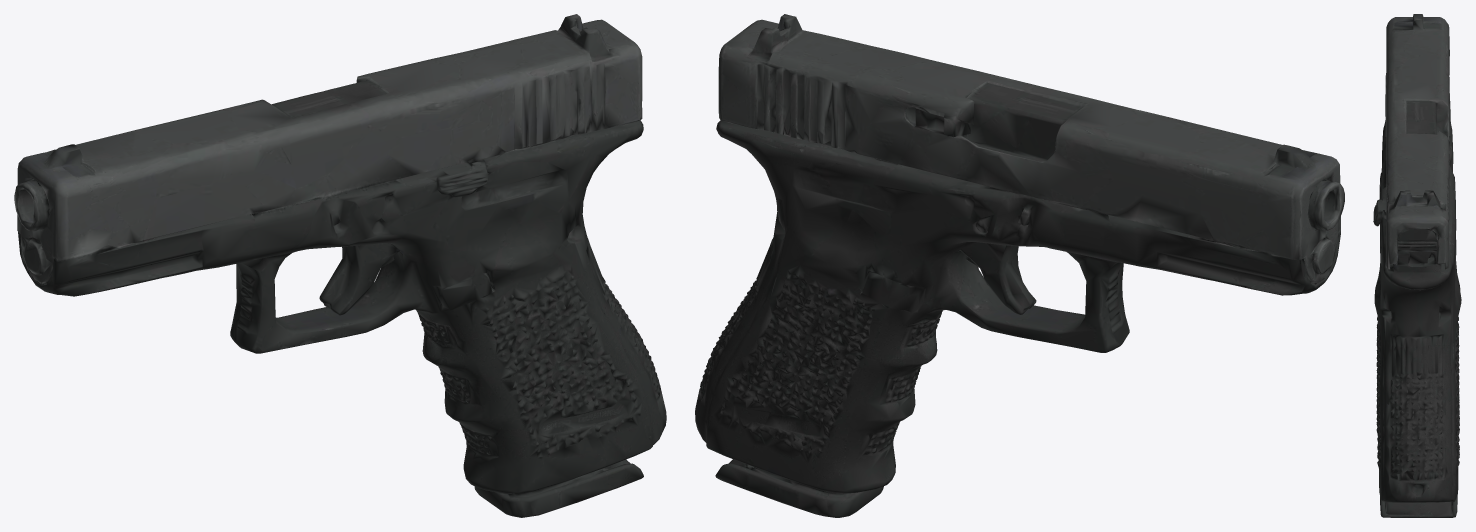
The model's file is pistol.glb.
3 views of the same model, side by side, from view 1: azimuth 30°, elevation 25°; view 2: azimuth 150°, elevation 25°; view 3: azimuth 270°, elevation 25° (orthographic). The views are drawn at different scales.
Bounding box in the file's own units: 1.9 × 1.32 × 0.3254.
1 material, 1 textured.
